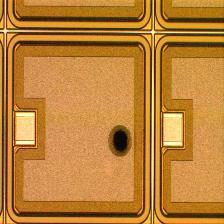PARTICLE: (106, 126, 138, 158)
